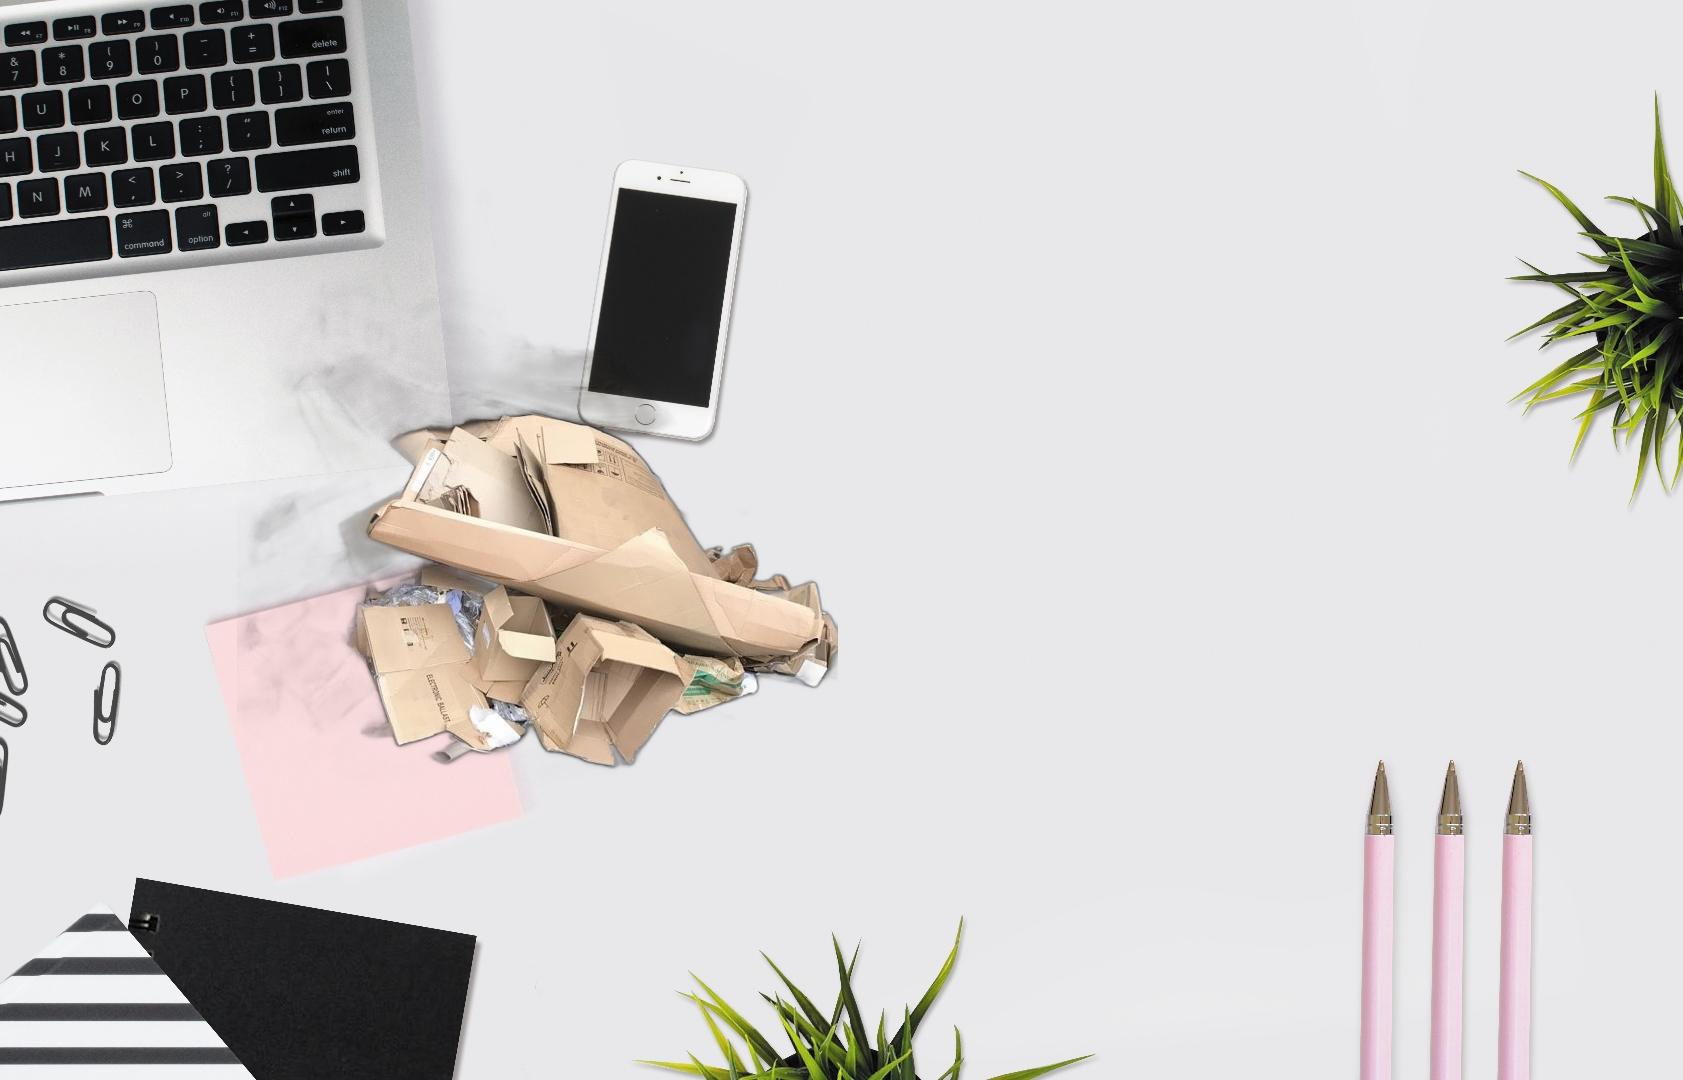trashbox-cardboard: (237, 249, 838, 787)
